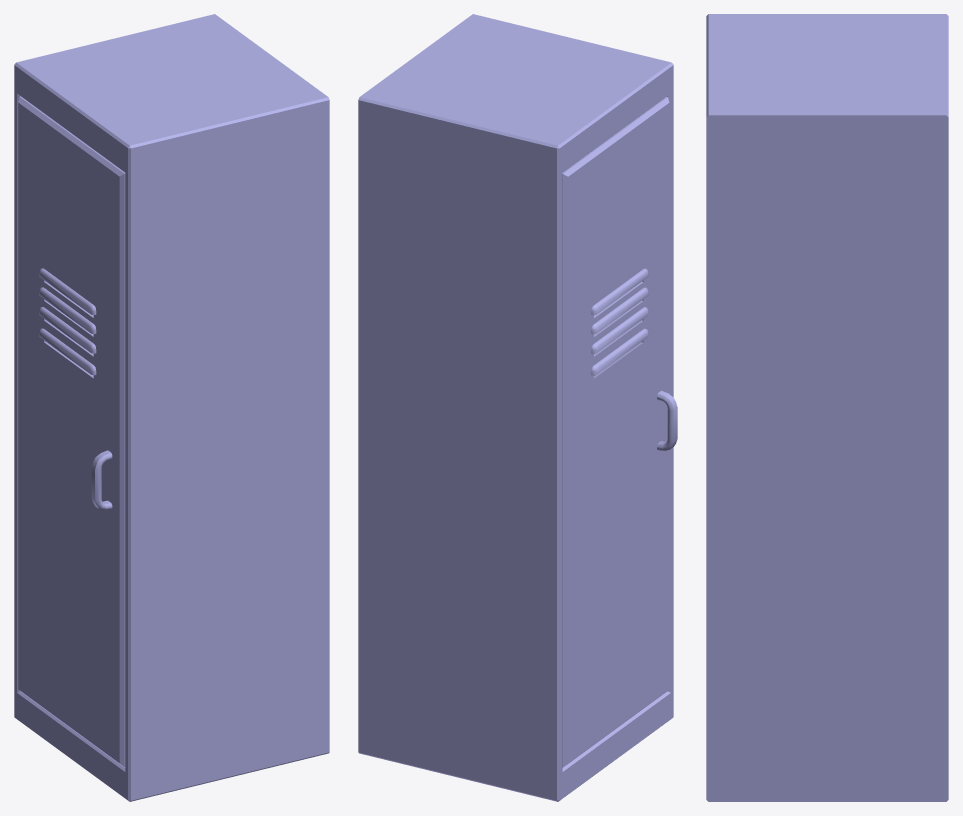
The model's file is Locker_Hideable.fbx.
3 views of the same model, side by side, from view 1: azimuth 30°, elevation 25°; view 2: azimuth 150°, elevation 25°; view 3: azimuth 270°, elevation 25° (orthographic). The views are drawn at different scales.
Visible parts, largest first — view 1: Locker_Hideable_Body, Locker_Hideable_Door; view 2: Locker_Hideable_Body, Locker_Hideable_Door; view 3: Locker_Hideable_Body.
Boxes of the visible parts, x1=… form: Locker_Hideable_Body: x1=14, y1=14, x2=329, y2=801; Locker_Hideable_Door: x1=18, y1=96, x2=125, y2=767; Locker_Hideable_Body: x1=358, y1=14, x2=673, y2=801; Locker_Hideable_Door: x1=562, y1=96, x2=677, y2=767; Locker_Hideable_Body: x1=706, y1=14, x2=948, y2=801.
Size of the model in its own units: 87.36 by 250 by 80.
